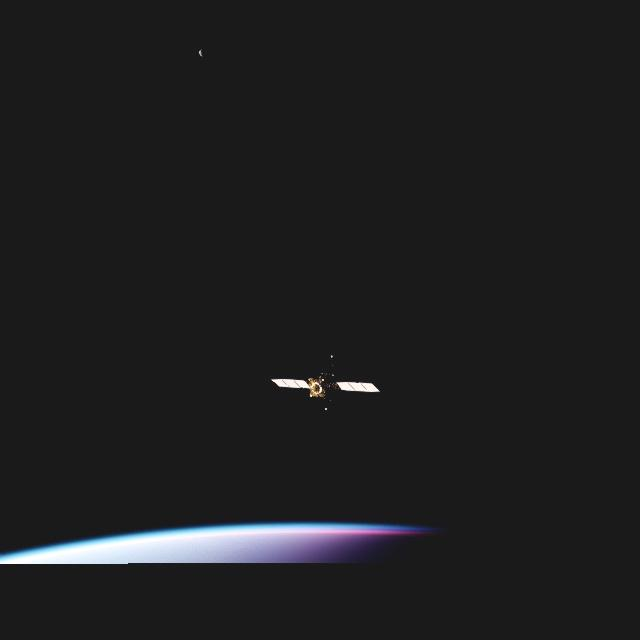satellite: (272, 354, 378, 408)
